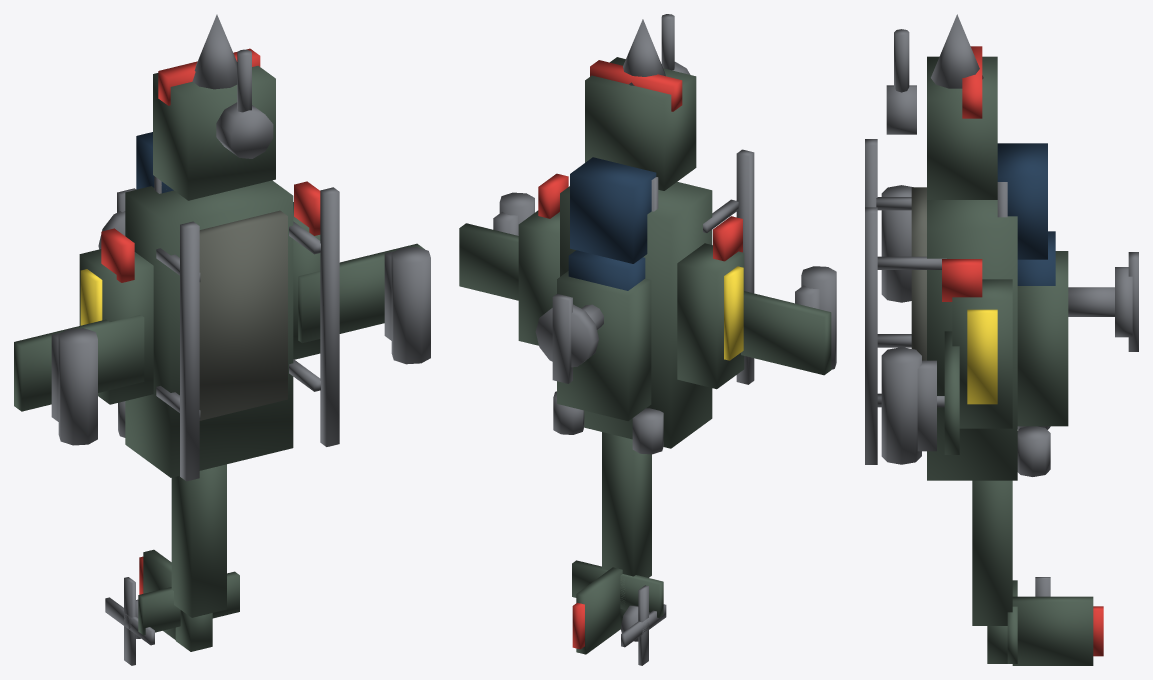
File: helicopter.fbx
The picture shows the model from 3 angles, left to right: view 1: azimuth 30°, elevation 25°; view 2: azimuth 150°, elevation 25°; view 3: azimuth 270°, elevation 25°; orthographic projection. The views are drawn at different scales.
Parts seen in each view (by area): view 1: HelicopterBody; view 2: HelicopterBody; view 3: HelicopterBody.
Part boxes in pixels (x1,y1,x2,y2): HelicopterBody: [14, 14, 430, 665]; HelicopterBody: [459, 14, 836, 665]; HelicopterBody: [865, 14, 1138, 665].
Size of the model in its own units: 0.92 by 0.5425 by 1.46.
